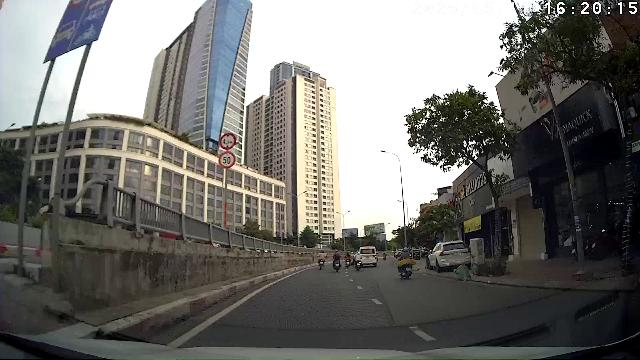127-toc-do-toi-da-50: (218, 151, 236, 169)
